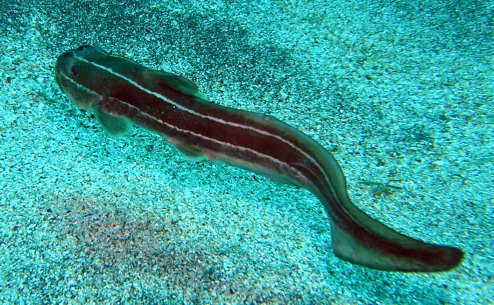gonzui: (46, 39, 467, 285)
